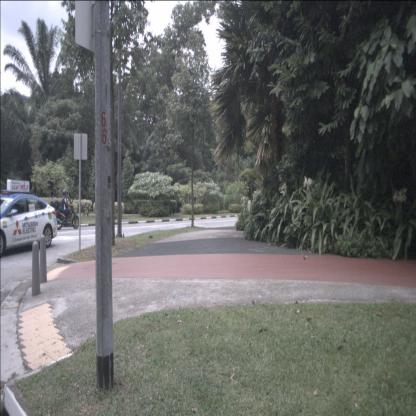vehicle-car: (0, 193, 58, 258)
vehicle-motorcycle: (51, 189, 80, 230)
